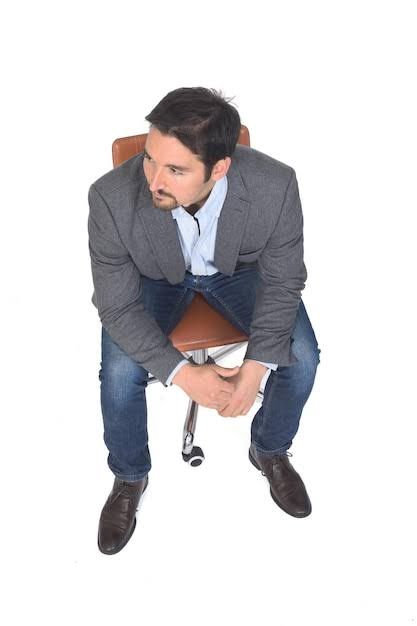distracted: (109, 72, 251, 281)
